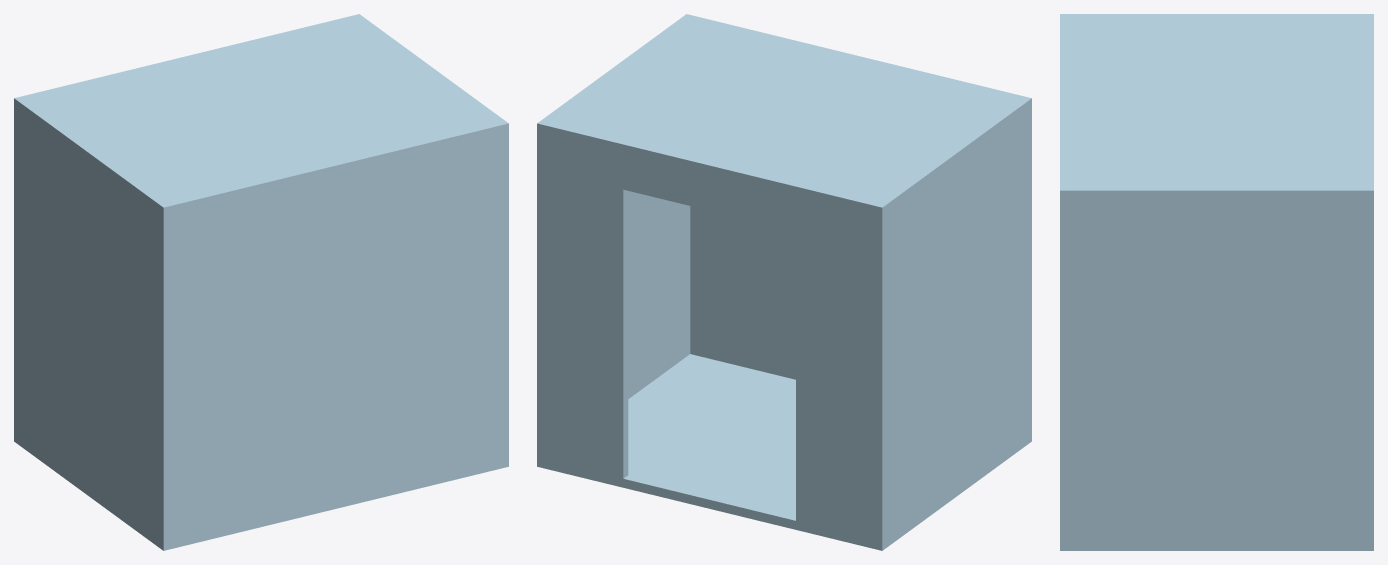
Rendered from car.dae.
3 views of the same model, side by side, from view 1: azimuth 30°, elevation 25°; view 2: azimuth 150°, elevation 25°; view 3: azimuth 270°, elevation 25° (orthographic). The views are drawn at different scales.
Visible parts, largest first — view 1: ID2; view 2: ID2; view 3: ID2.
Part boxes in pixels (left/top/right/bottom): ID2: left=14, top=14, right=508, bottom=550; ID2: left=537, top=14, right=1031, bottom=550; ID2: left=1060, top=14, right=1373, bottom=550.
Bounding box in the file's own units: 2 × 1.5 × 1.9.
